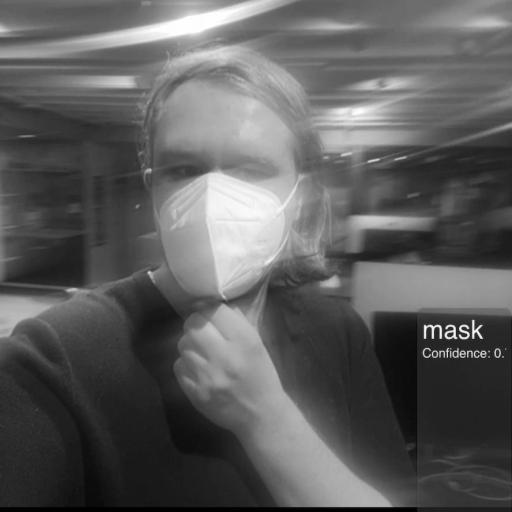mask: (133, 43, 336, 305)
